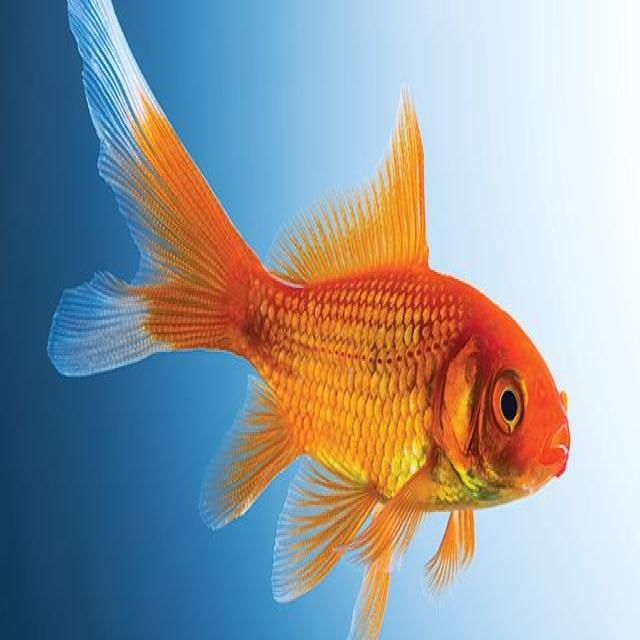GoldFish: (44, 0, 570, 633)
